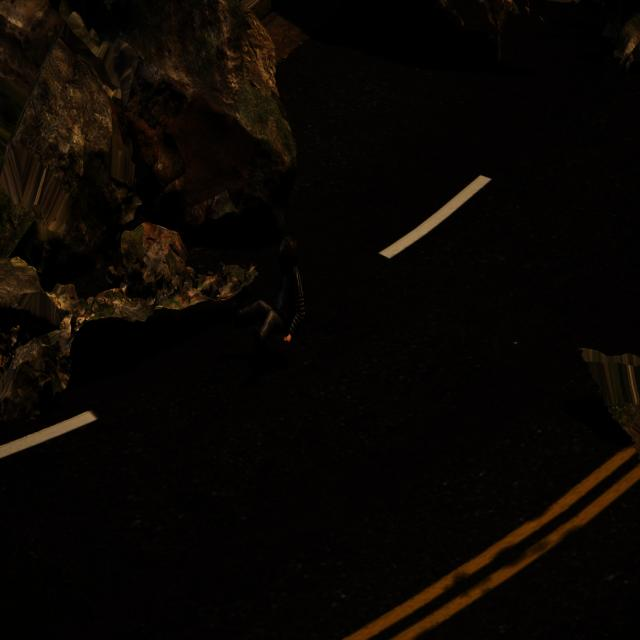Human: (232, 230, 310, 356)
